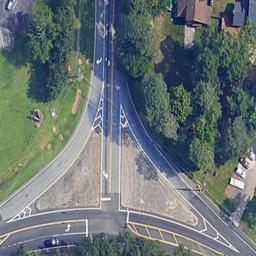Chevron: (130, 219, 229, 256)
Double Solid Yellow Line: (108, 1, 117, 197), (9, 216, 88, 232)
Left Turn Arrow: (64, 222, 73, 231), (101, 169, 108, 179)
Right Turn Arrow: (96, 54, 104, 65)
Solid White Line: (27, 232, 86, 239)
Stopline: (86, 219, 90, 234), (101, 196, 112, 200), (127, 211, 130, 224)
White Dashed Line: (1, 239, 31, 249)
